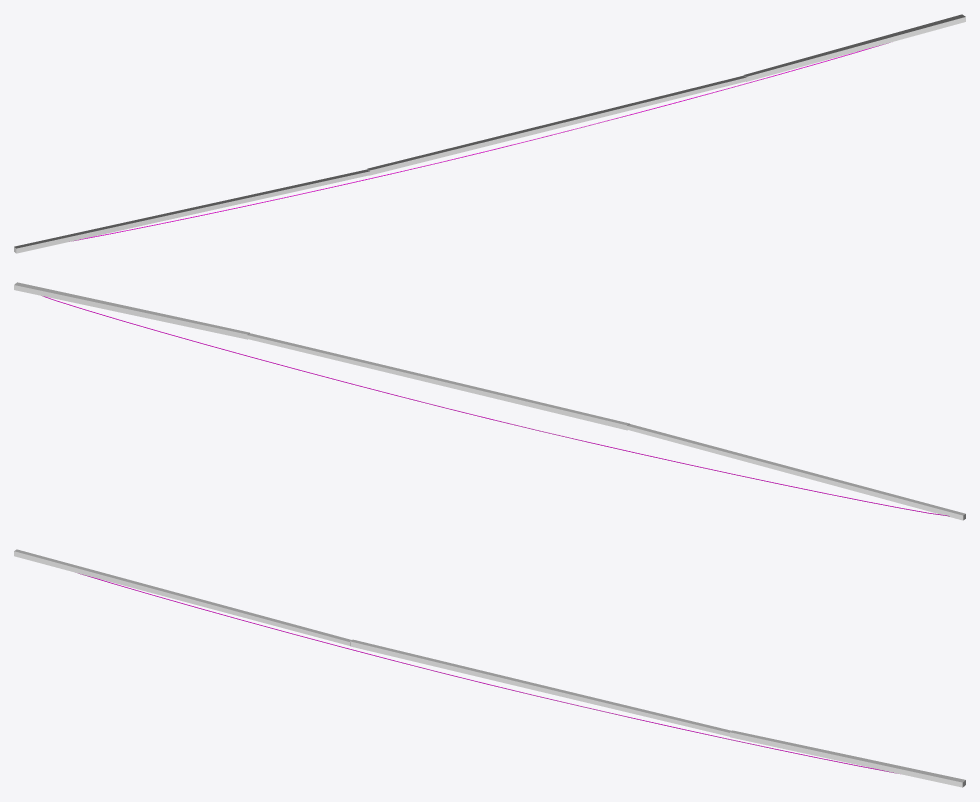
Rendered from SM_Electric_Cable_Long_01.fbx.
The picture shows the model from 3 angles, top to bottom: view 1: azimuth 30°, elevation 25°; view 2: azimuth 150°, elevation 25°; view 3: azimuth 330°, elevation 25°; orthographic projection.
Visible parts, largest first — view 1: SM_Electric_Cable_Long_01_ConvexHulls, SM_Electric_Cable_Long_01_LOD0; view 2: SM_Electric_Cable_Long_01_ConvexHulls, SM_Electric_Cable_Long_01_LOD0; view 3: SM_Electric_Cable_Long_01_ConvexHulls, SM_Electric_Cable_Long_01_LOD0.
Boxes of the visible parts, x1,y1,x2,y2 form: SM_Electric_Cable_Long_01_ConvexHulls: (14, 14, 965, 253); SM_Electric_Cable_Long_01_LOD0: (73, 43, 888, 241); SM_Electric_Cable_Long_01_ConvexHulls: (14, 282, 965, 520); SM_Electric_Cable_Long_01_LOD0: (42, 296, 949, 516); SM_Electric_Cable_Long_01_ConvexHulls: (14, 549, 965, 787); SM_Electric_Cable_Long_01_LOD0: (78, 573, 896, 773).
Bounding box in the file's own units: 3976 × 89 × 79.09.
